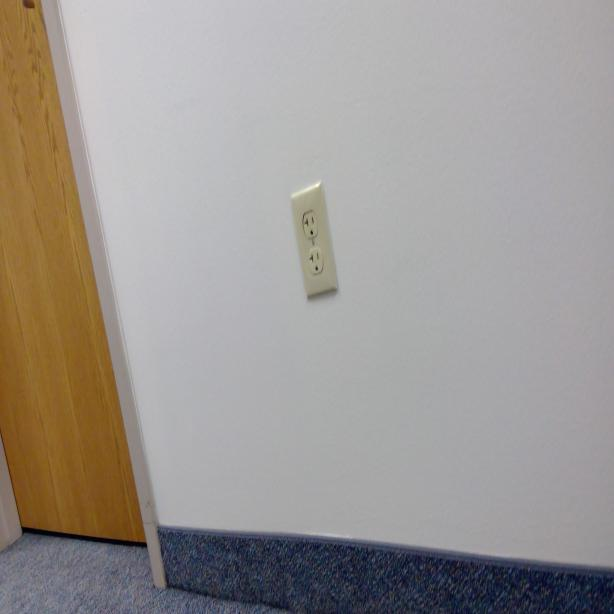typeb: (303, 209, 318, 241), (308, 249, 324, 277)
